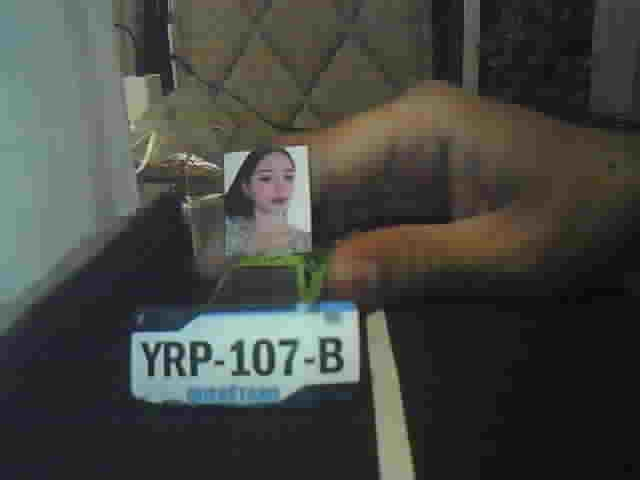PLACA: (127, 299, 363, 408)
ROSTRO: (228, 150, 310, 253)
